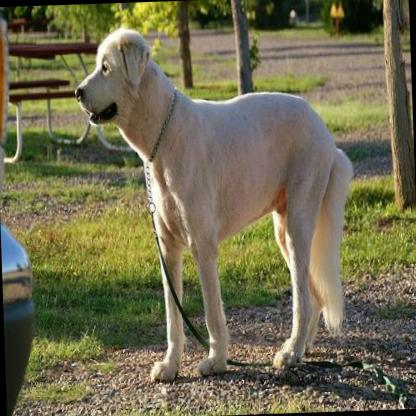Great_Pyrenees: (72, 16, 360, 380)
